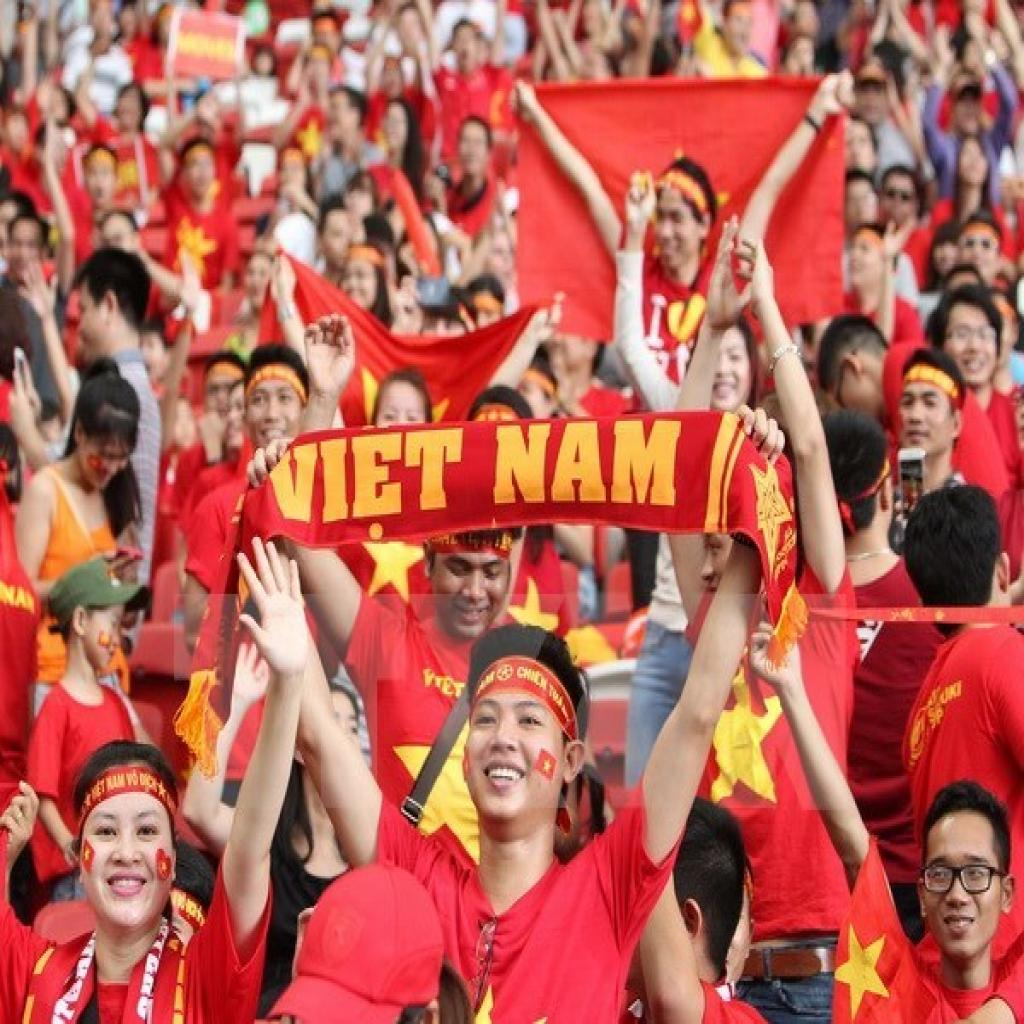text: (259, 426, 471, 548), (490, 412, 688, 512), (420, 664, 468, 706), (645, 289, 669, 350), (514, 662, 553, 696), (104, 769, 126, 797), (126, 769, 142, 792)
